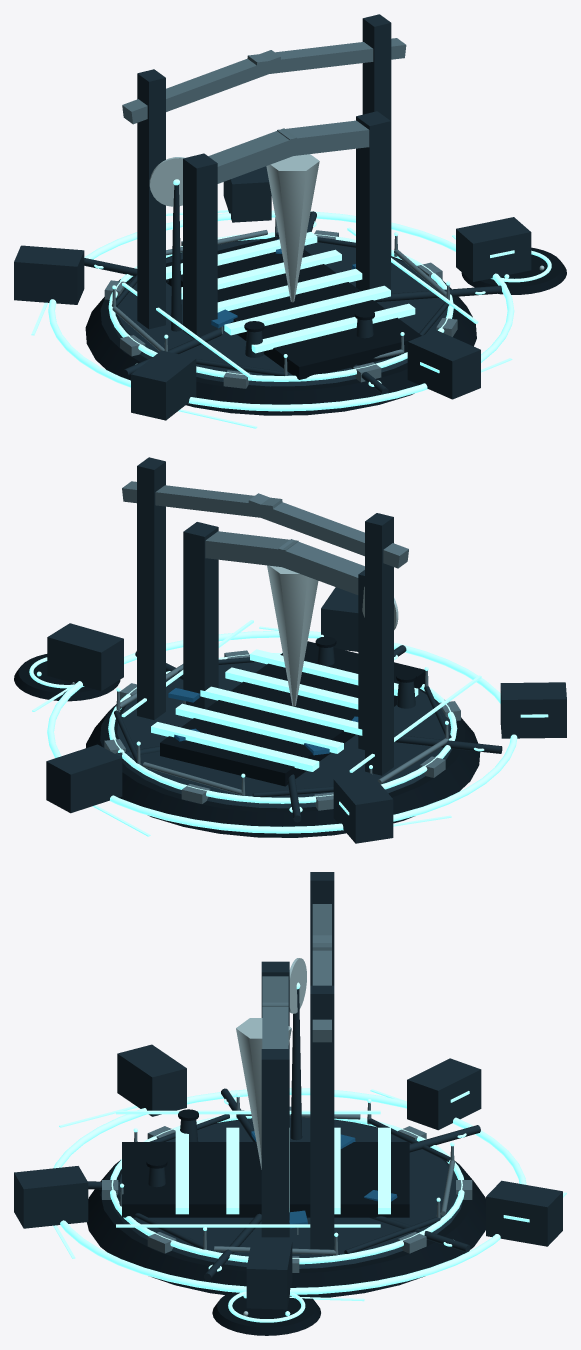
The model's file is shipyard-stage3.glb.
3 views of the same model, one above another, from view 1: azimuth 30°, elevation 25°; view 2: azimuth 150°, elevation 25°; view 3: azimuth 270°, elevation 25° (orthographic). The views are drawn at different scales.
Parts seen in each view (by area): view 1: gantry-pillar (×2), construction-trench, armored-foundation, upper-deck, dock-light (×5), capital-dock-pillar-0, district-grid-2, gantry-crown (×2), hull-under-construction, industrial-annex-4, industrial-annex-0, industrial-annex-2 (+12 smaller); view 2: construction-trench, upper-deck, armored-foundation, dock-light (×5), capital-dock-pillar-1, capital-dock-pillar-0, gantry-pillar (×2), district-grid-2, gantry-crown (×2), industrial-annex-3, industrial-annex-4, hull-under-construction (+10 smaller); view 3: construction-trench, upper-deck, armored-foundation, capital-dock-pillar-1, gantry-pillar (×2), district-grid-2, dock-light (×4), industrial-annex-3, industrial-annex-0, industrial-annex-2, industrial-annex-1, industrial-annex-4 (+15 smaller).
Boxes of the visible parts, left/top/right/bottom form: gantry-pillar (×2): left=183, top=111, right=390, bottom=338; construction-trench: left=166, top=236, right=421, bottom=379; armored-foundation: left=85, top=239, right=476, bottom=415; upper-deck: left=110, top=239, right=452, bottom=386; dock-light (×5): left=166, top=232, right=415, bottom=353; capital-dock-pillar-0: left=137, top=69, right=165, bottom=329; district-grid-2: left=48, top=210, right=514, bottom=411; gantry-crown (×2): left=208, top=120, right=369, bottom=183; hull-under-construction: left=266, top=154, right=319, bottom=302; industrial-annex-4: left=456, top=217, right=531, bottom=281; industrial-annex-0: left=407, top=330, right=480, bottom=399; industrial-annex-2: left=14, top=245, right=84, bottom=304; construction-trench: left=160, top=641, right=425, bottom=786; upper-deck: left=109, top=662, right=451, bottom=808; armored-foundation: left=86, top=676, right=480, bottom=837; dock-light (×5): left=151, top=649, right=418, bottom=771; capital-dock-pillar-1: left=137, top=457, right=165, bottom=719; capital-dock-pillar-0: left=365, top=513, right=393, bottom=775; gantry-pillar (×2): left=183, top=522, right=364, bottom=749; district-grid-2: left=47, top=630, right=517, bottom=833; gantry-crown (×2): left=205, top=531, right=364, bottom=594; industrial-annex-3: left=46, top=744, right=122, bottom=813; industrial-annex-4: left=47, top=623, right=123, bottom=691; hull-under-construction: left=267, top=565, right=318, bottom=706; construction-trench: left=122, top=1142, right=409, bottom=1217; upper-deck: left=111, top=1117, right=462, bottom=1268; armored-foundation: left=87, top=1118, right=485, bottom=1297; capital-dock-pillar-1: left=310, top=985, right=334, bottom=1249; gantry-pillar (×2): left=261, top=961, right=289, bottom=1237; district-grid-2: left=53, top=1088, right=526, bottom=1294; dock-light (×4): left=175, top=1127, right=390, bottom=1214; industrial-annex-3: left=486, top=1180, right=562, bottom=1246; industrial-annex-0: left=14, top=1166, right=88, bottom=1228; industrial-annex-2: left=407, top=1058, right=481, bottom=1130; industrial-annex-1: left=117, top=1044, right=186, bottom=1116; industrial-annex-4: left=246, top=1241, right=292, bottom=1309.
Bounding box in the file's own units: 15.28 × 8.21 × 14.64.
